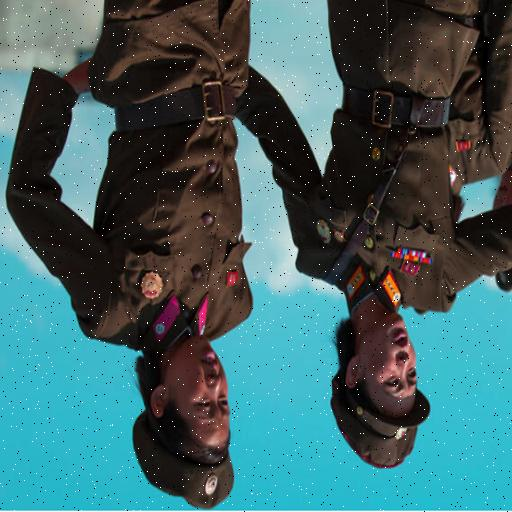north army: (10, 10, 505, 486)
